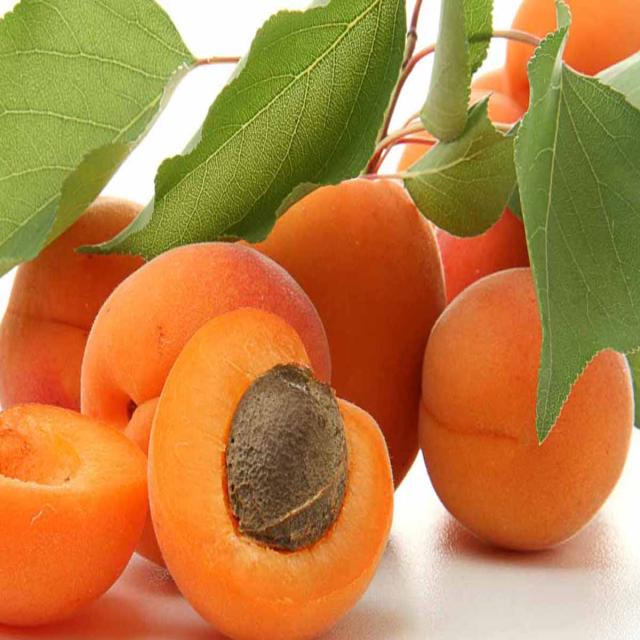kayisi: (2, 277, 210, 640)
kayisi-cekirdegi: (228, 336, 358, 569)
kayisi-yapragi: (5, 2, 640, 246)
